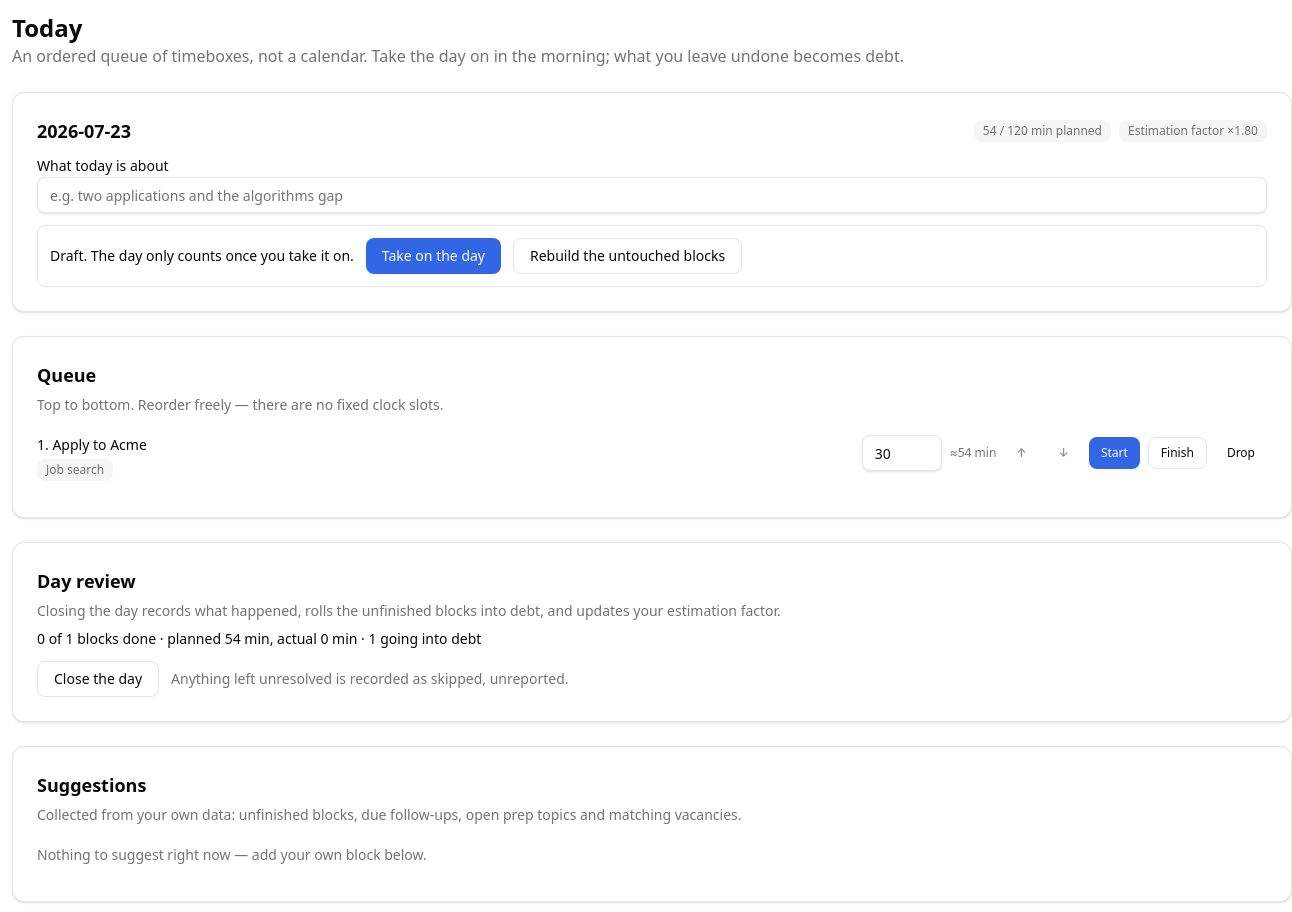
it: DayPlanner › surfaces an API failure instead of silently doing nothing
Click the button "Take on the day" at (433, 256), box [366,238,501,274]
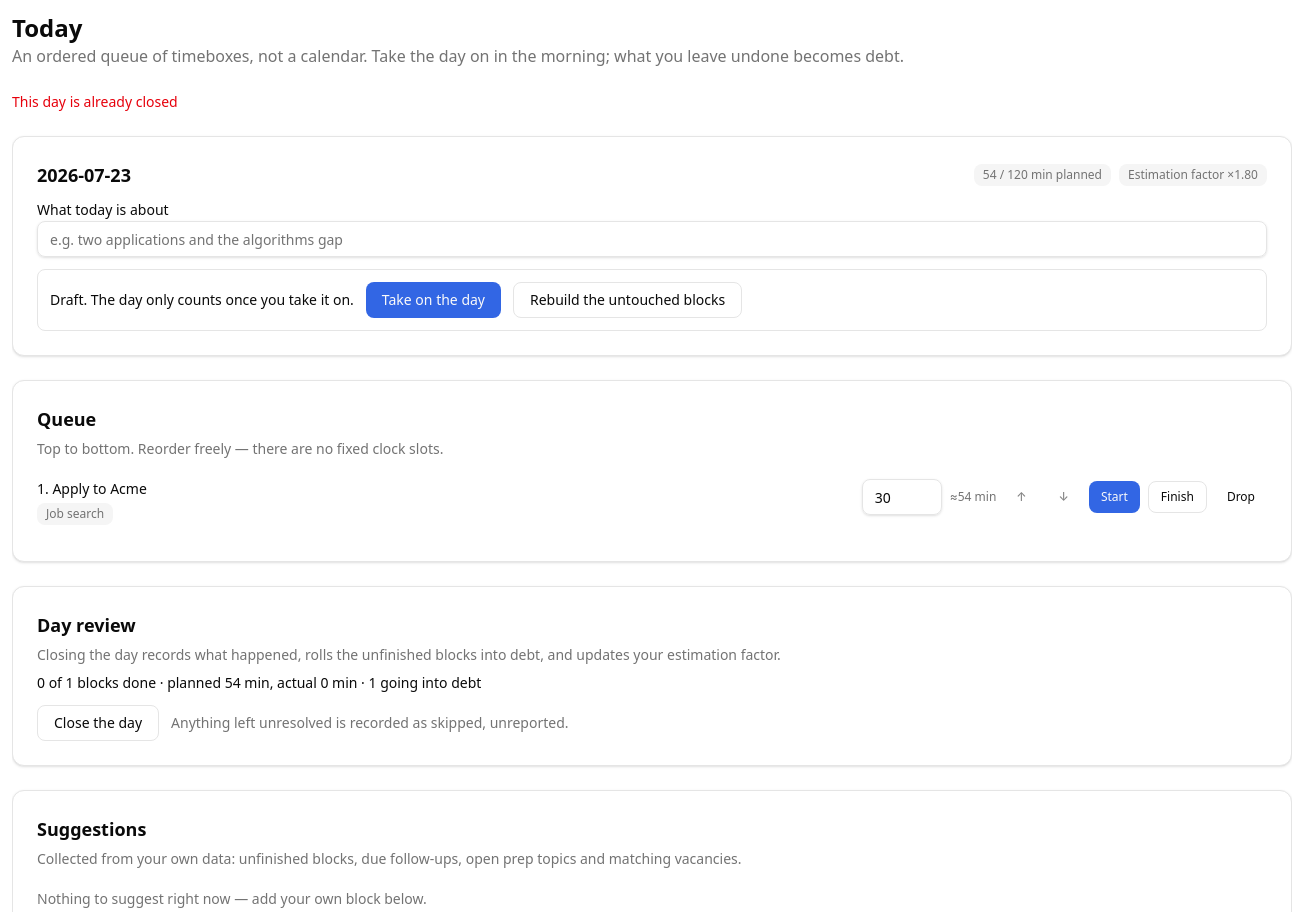
Expected: the message reads "This day is already closed", [12,92,178,111]
